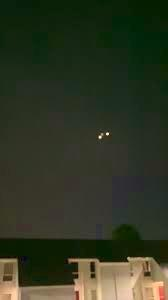Plane: (92, 122, 116, 145)
